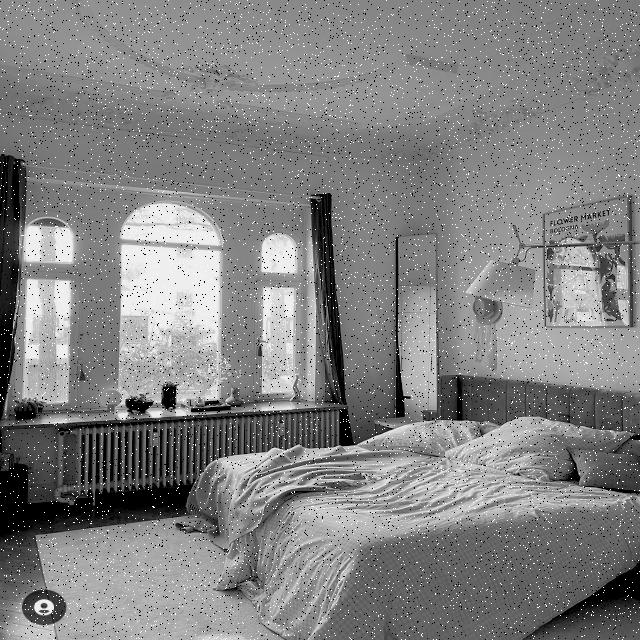bed: (193, 369, 640, 640)
